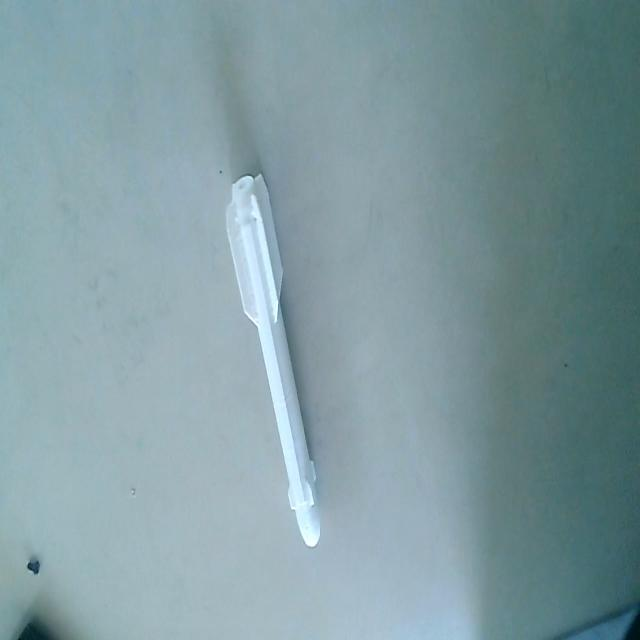Rocket: (222, 166, 326, 557)
